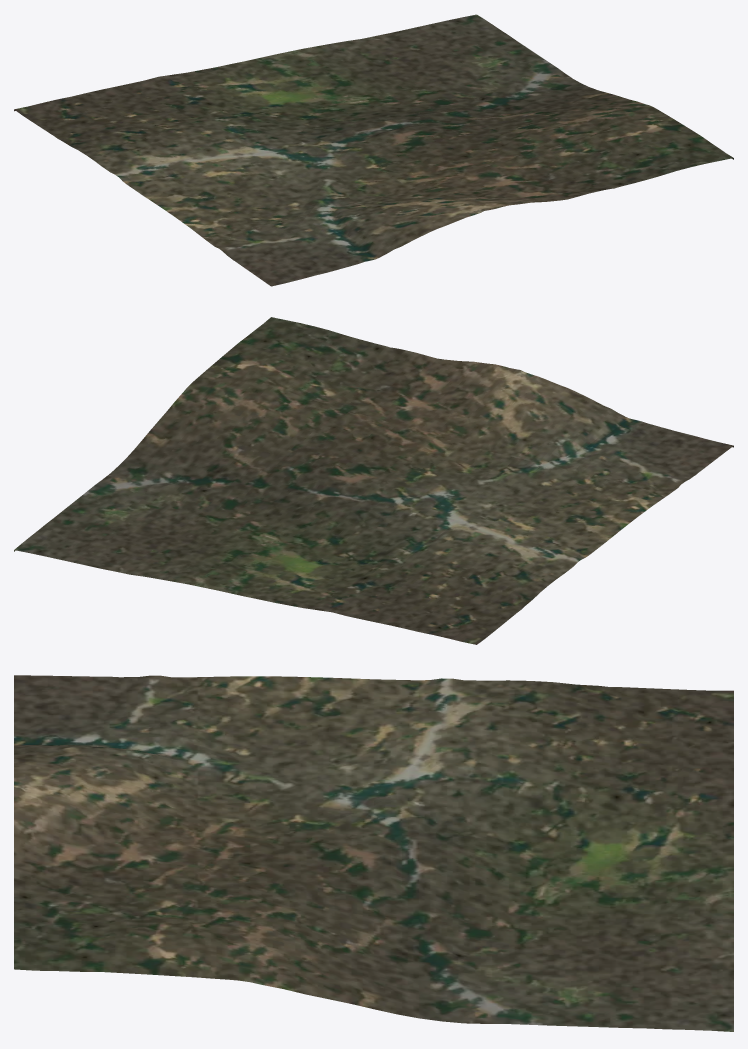
3 views of the same model, one above another, from view 1: azimuth 30°, elevation 25°; view 2: azimuth 150°, elevation 25°; view 3: azimuth 270°, elevation 25° (orthographic). The views are drawn at different scales.
Size of the model in its own units: 250 by 28.19 by 241.
Materials: 1 (1 with a texture image).
